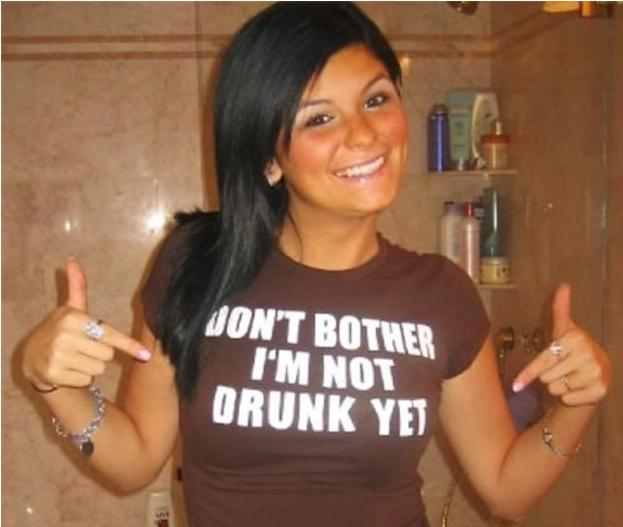Drunk: (284, 54, 402, 211)
